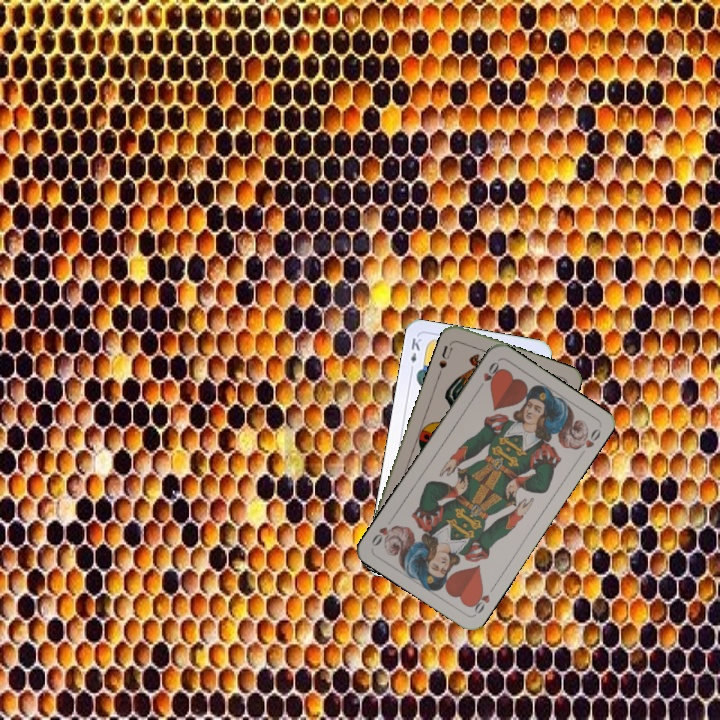EK: (406, 334, 424, 374)
HO: (466, 581, 498, 617), (474, 358, 502, 393)
SU: (435, 338, 456, 371)
